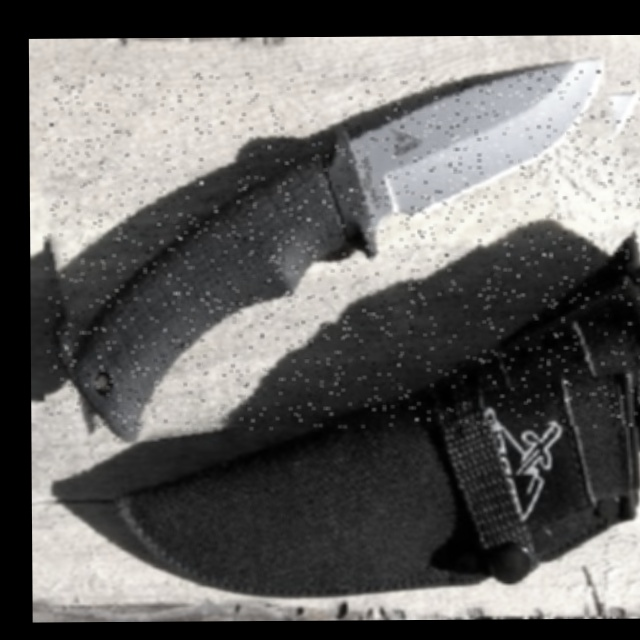Sharp-Object: (42, 70, 640, 430)
